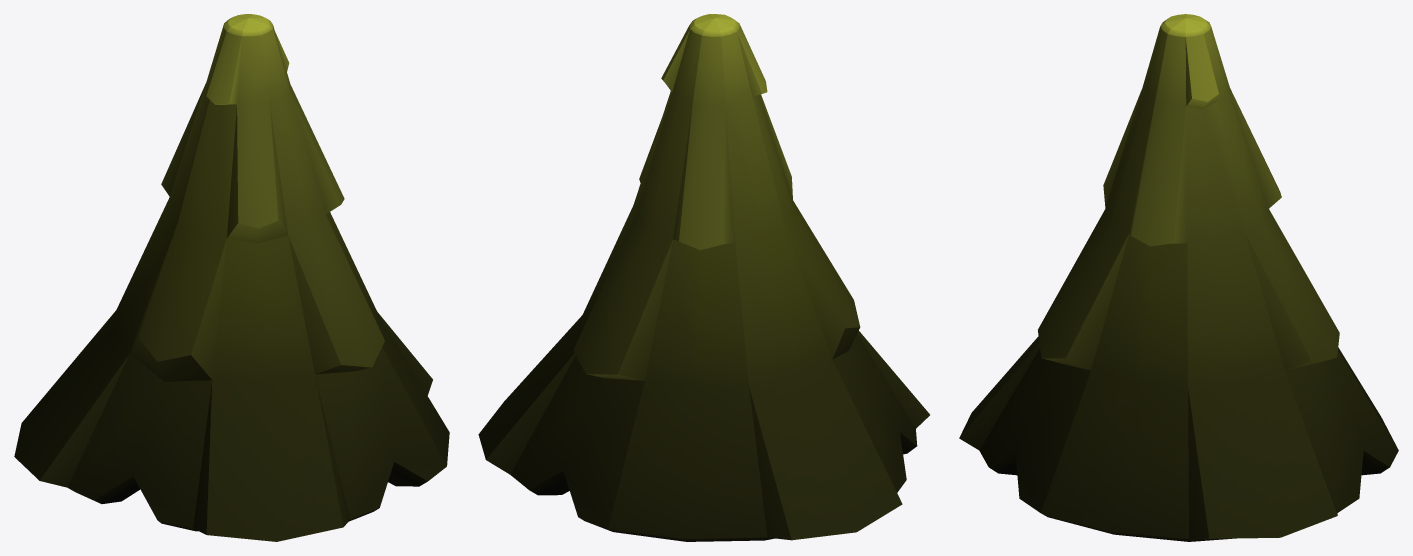
The model's file is Leaves_02A.fbx.
3 views of the same model, side by side, from view 1: azimuth 30°, elevation 25°; view 2: azimuth 150°, elevation 25°; view 3: azimuth 270°, elevation 25° (orthographic).
Visible parts, largest first — view 1: Leaves_02A; view 2: Leaves_02A; view 3: Leaves_02A.
Part boxes in pixels (box(x1,y1,x2,y2)): Leaves_02A: box(14, 14, 449, 541); Leaves_02A: box(478, 14, 929, 541); Leaves_02A: box(959, 14, 1398, 541).
Size of the model in its own units: 671 by 715 by 642.
